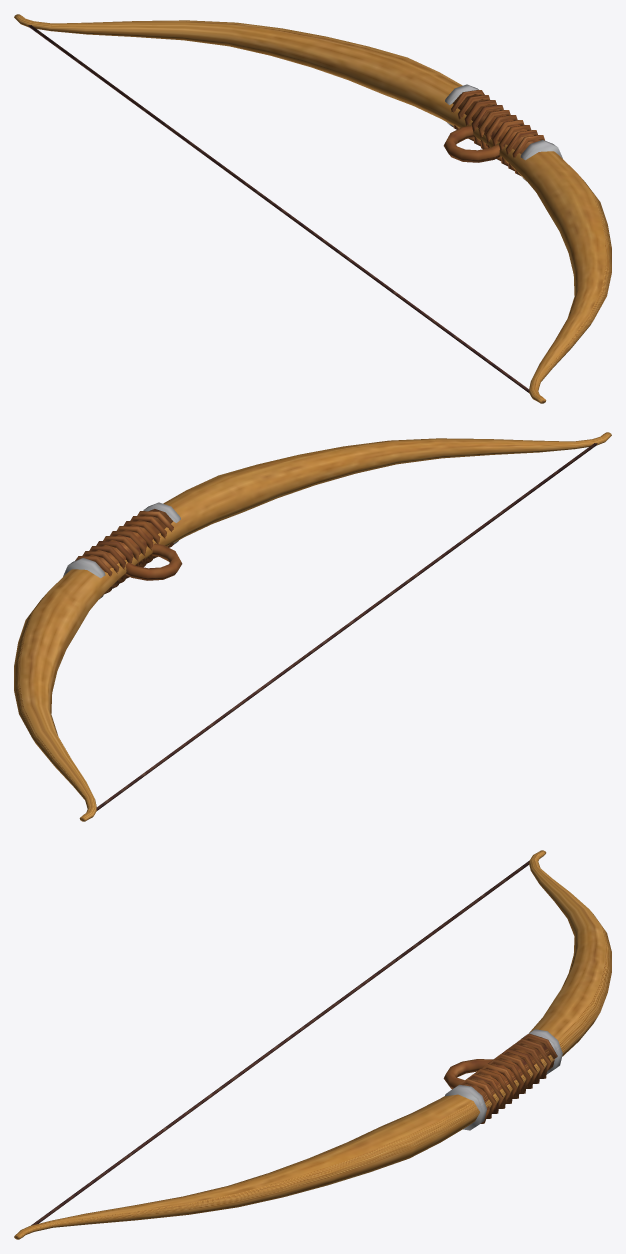
The model's file is item_bow1.glb.
3 renders of one model, top to bottom at view 1: azimuth 30°, elevation 25°; view 2: azimuth 150°, elevation 25°; view 3: azimuth 330°, elevation 25°, orthographic.
Visible parts, largest first — view 1: item_bow1; view 2: item_bow1; view 3: item_bow1.
Part boxes in pixels (x1,y1,x2,y2): item_bow1: (14,14,611,403); item_bow1: (14,432,611,821); item_bow1: (14,850,611,1239).
Bounding box in the file's own units: 0.2724 × 0.0453 × 1.
1 material, 1 textured.
